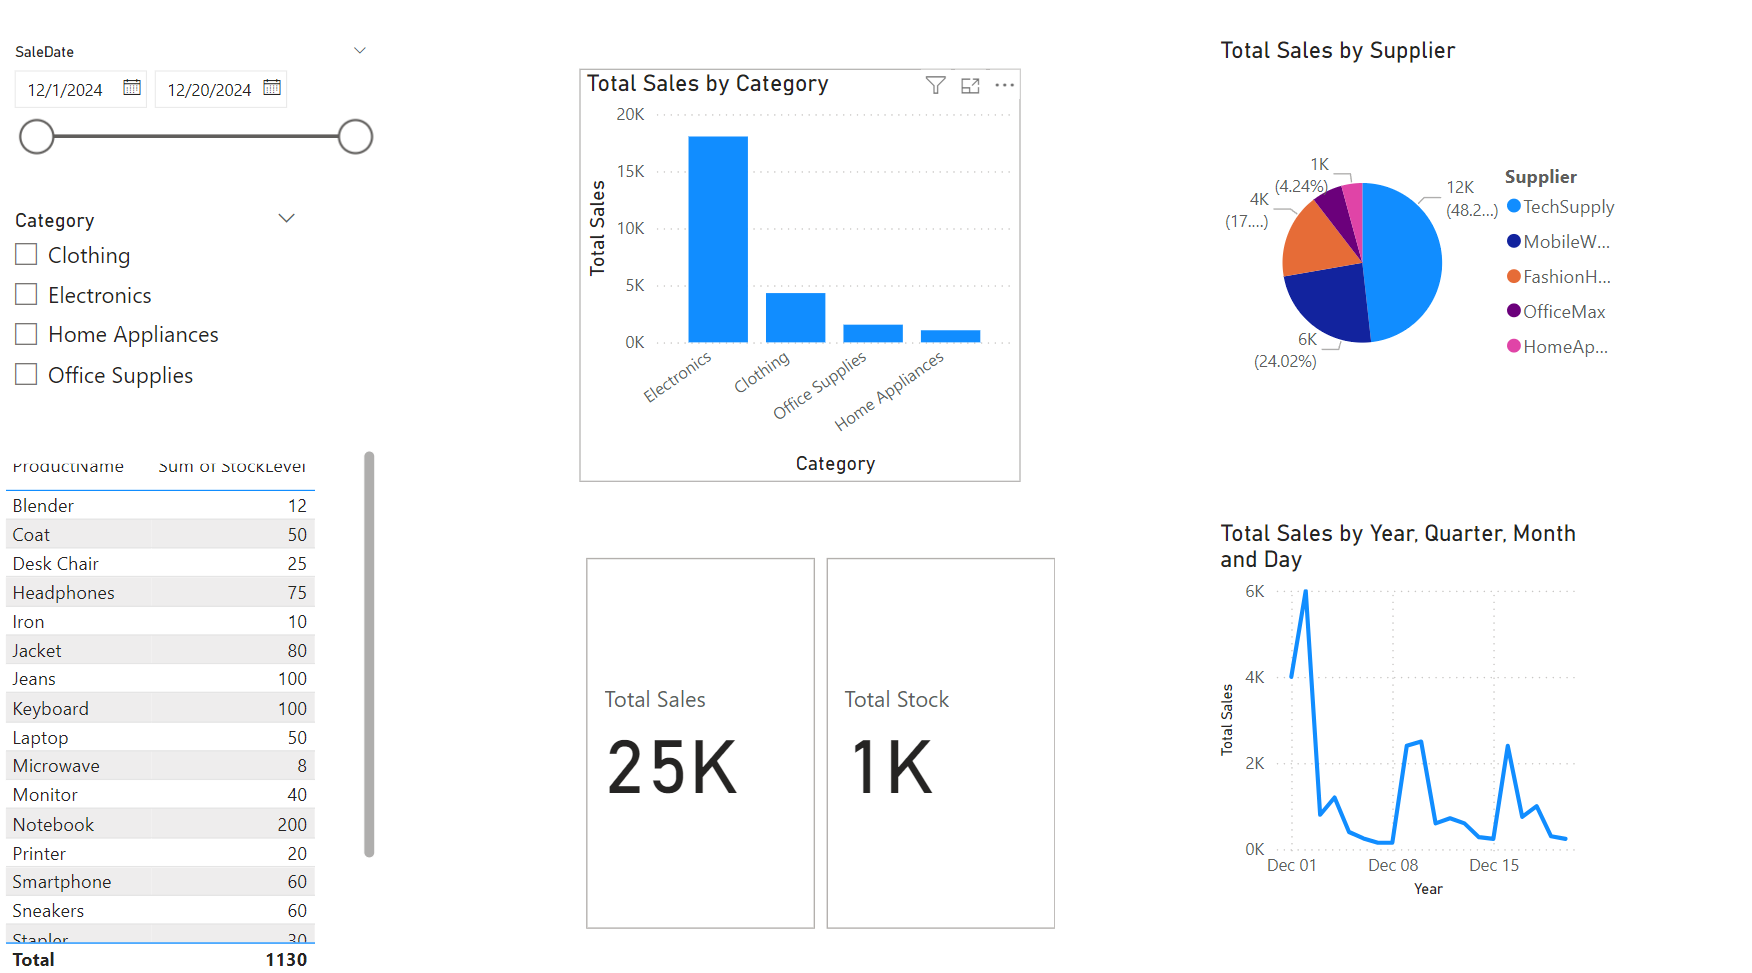

The dashboard page shown, as its layout file describes it:
{"tool":"powerbi","page":{"name":"Page 1","canvas":[1280,720],"ordinal":0},"visuals":[{"type":"clusteredColumnChart","fields":{"Category":["Sales.Category"],"Y":["Sales.Total Sales"]},"box":[422.1,60.3,320.2,299.4],"z":0},{"type":"tableEx","fields":{"Values":["Sales.ProductName","Sum(Product_Details.StockLevel)"]},"box":[0,332.7,279.7,387.8],"z":1000},{"type":"pieChart","fields":{"Category":["Product_Details.Supplier"],"Y":["Sales.Total Sales"]},"box":[881.6,37.4,305.7,309.8],"z":2000},{"type":"lineChart","fields":{"Category":["Sales.SaleDate.Variation.Date Hierarchy.Year","Sales.SaleDate.Variation.Date Hierarchy.Quarter","Sales.SaleDate.Variation.Date Hierarchy.Month","Sales.SaleDate.Variation.Date Hierarchy.Day"],"Y":["Sales.Total Sales"]},"box":[881.6,386.7,279.7,279.7],"z":3000},{"type":"cardVisual","fields":{"Data":["Sales.Total Sales","Product_Details.Total Stock"]},"box":[422.1,410.7,350.4,279.7],"z":4000},{"type":"slicer","fields":{"Values":["Sales.Category"]},"box":[0,157,228.7,190.3],"z":4001},{"type":"slicer","fields":{"Values":["Sales.SaleDate"]},"box":[0,37.4,280.7,119.6],"z":4002}]}

Visuals, with their boxes in screenshot pixels (x1, y1, x2, y2), scaled from the page's 1280x720 canvas onto the 1752x973 screenshot:
clusteredColumnChart - Sales.Category x Sales.Total Sales: rect(578, 81, 1016, 486)
tableEx - Sales.ProductName x Sum(Product_Details.StockLevel): rect(0, 450, 383, 972)
pieChart - Product_Details.Supplier x Sales.Total Sales: rect(1207, 51, 1625, 469)
lineChart - Sales.SaleDate.Variation.Date Hierarchy.Year x Sales.SaleDate.Variation.Date Hierarchy.Quarter: rect(1207, 523, 1590, 901)
cardVisual - Sales.Total Sales x Product_Details.Total Stock: rect(578, 555, 1057, 933)
slicer - Sales.Category: rect(0, 212, 313, 469)
slicer - Sales.SaleDate: rect(0, 51, 384, 212)
